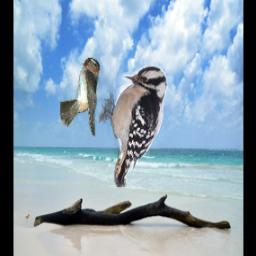Swallow: (59, 57, 100, 137)
Woodpecker: (98, 67, 167, 188)
